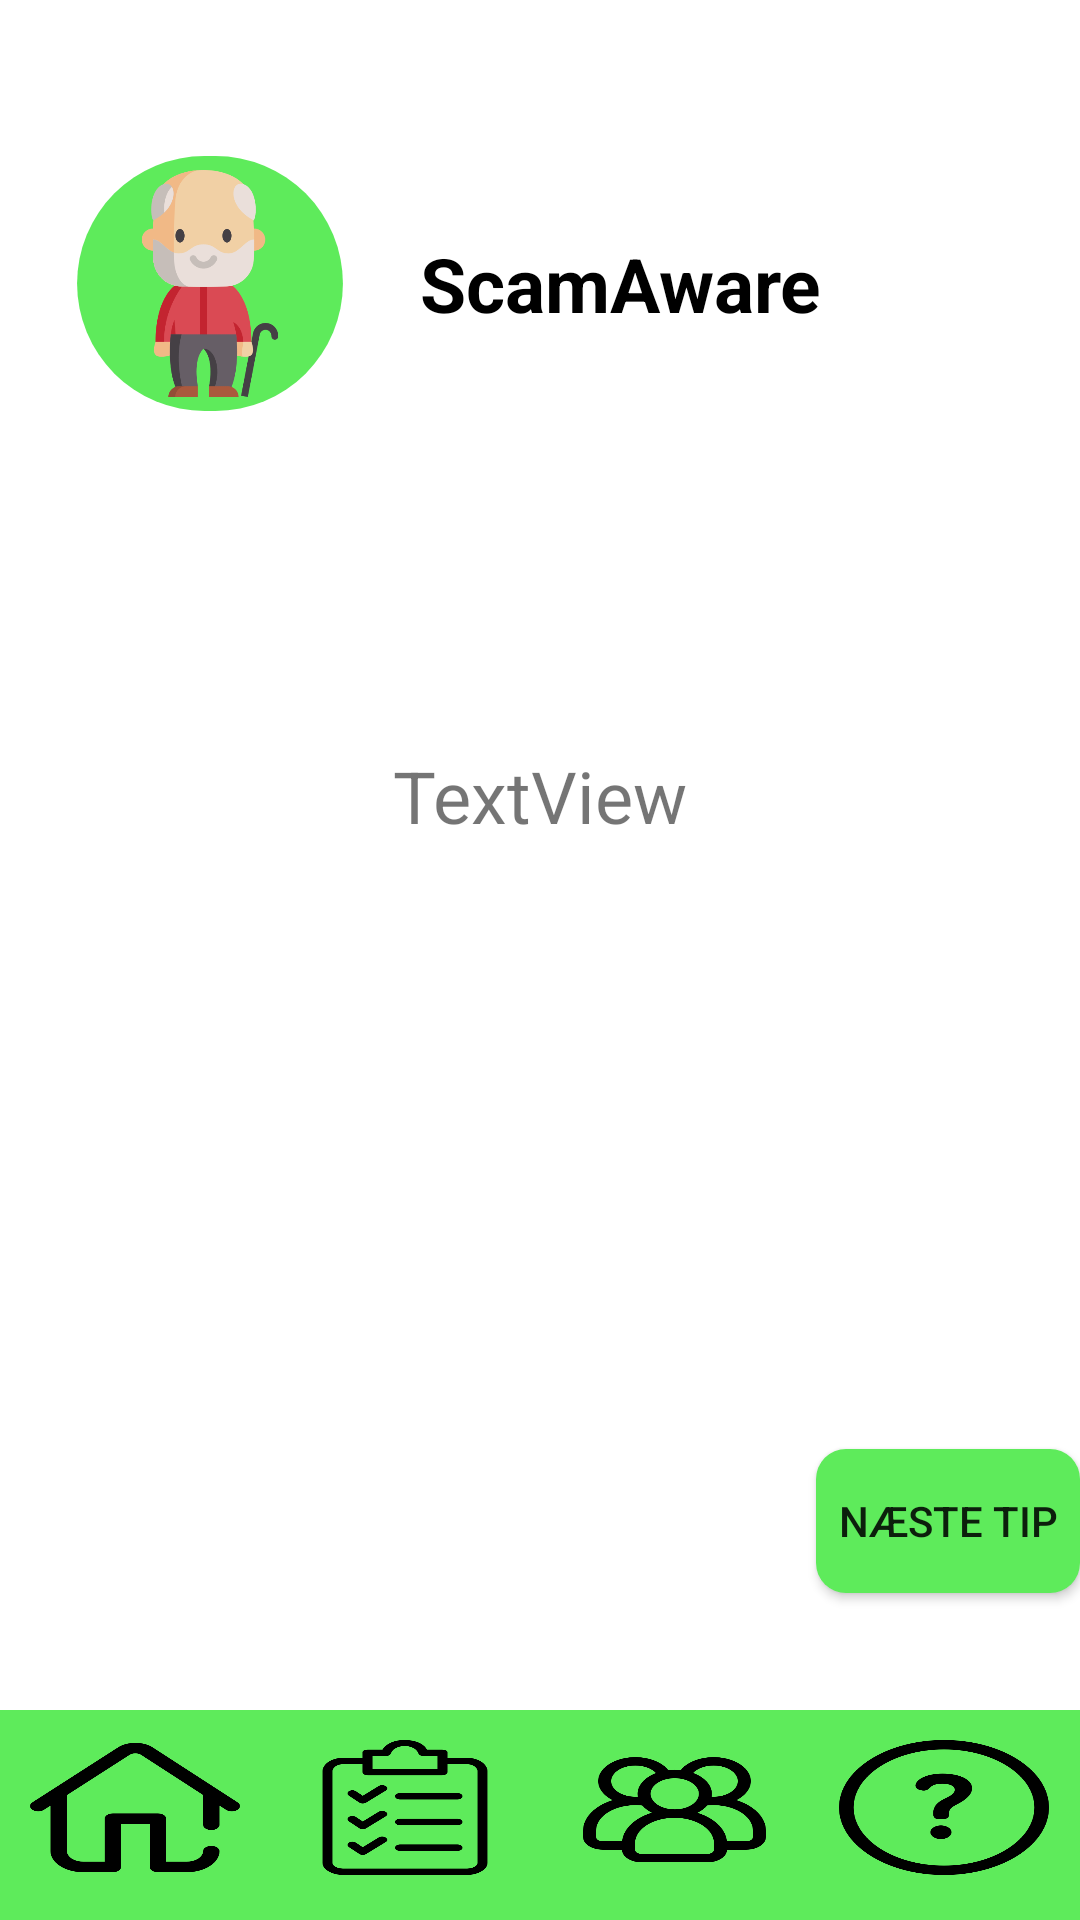

Point at icon controls on the screen. Image size 1080 × 1920, points as point (x, y).
grandfather: point (210, 283)
